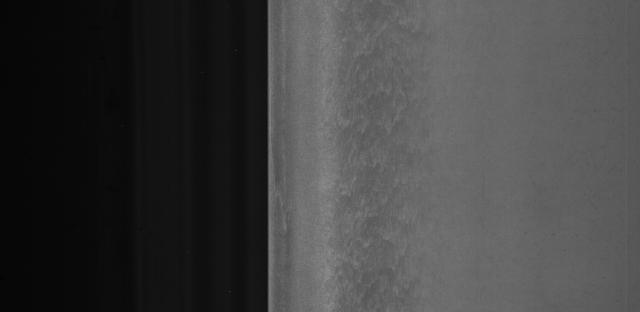silk_spot: (332, 15, 446, 291)
